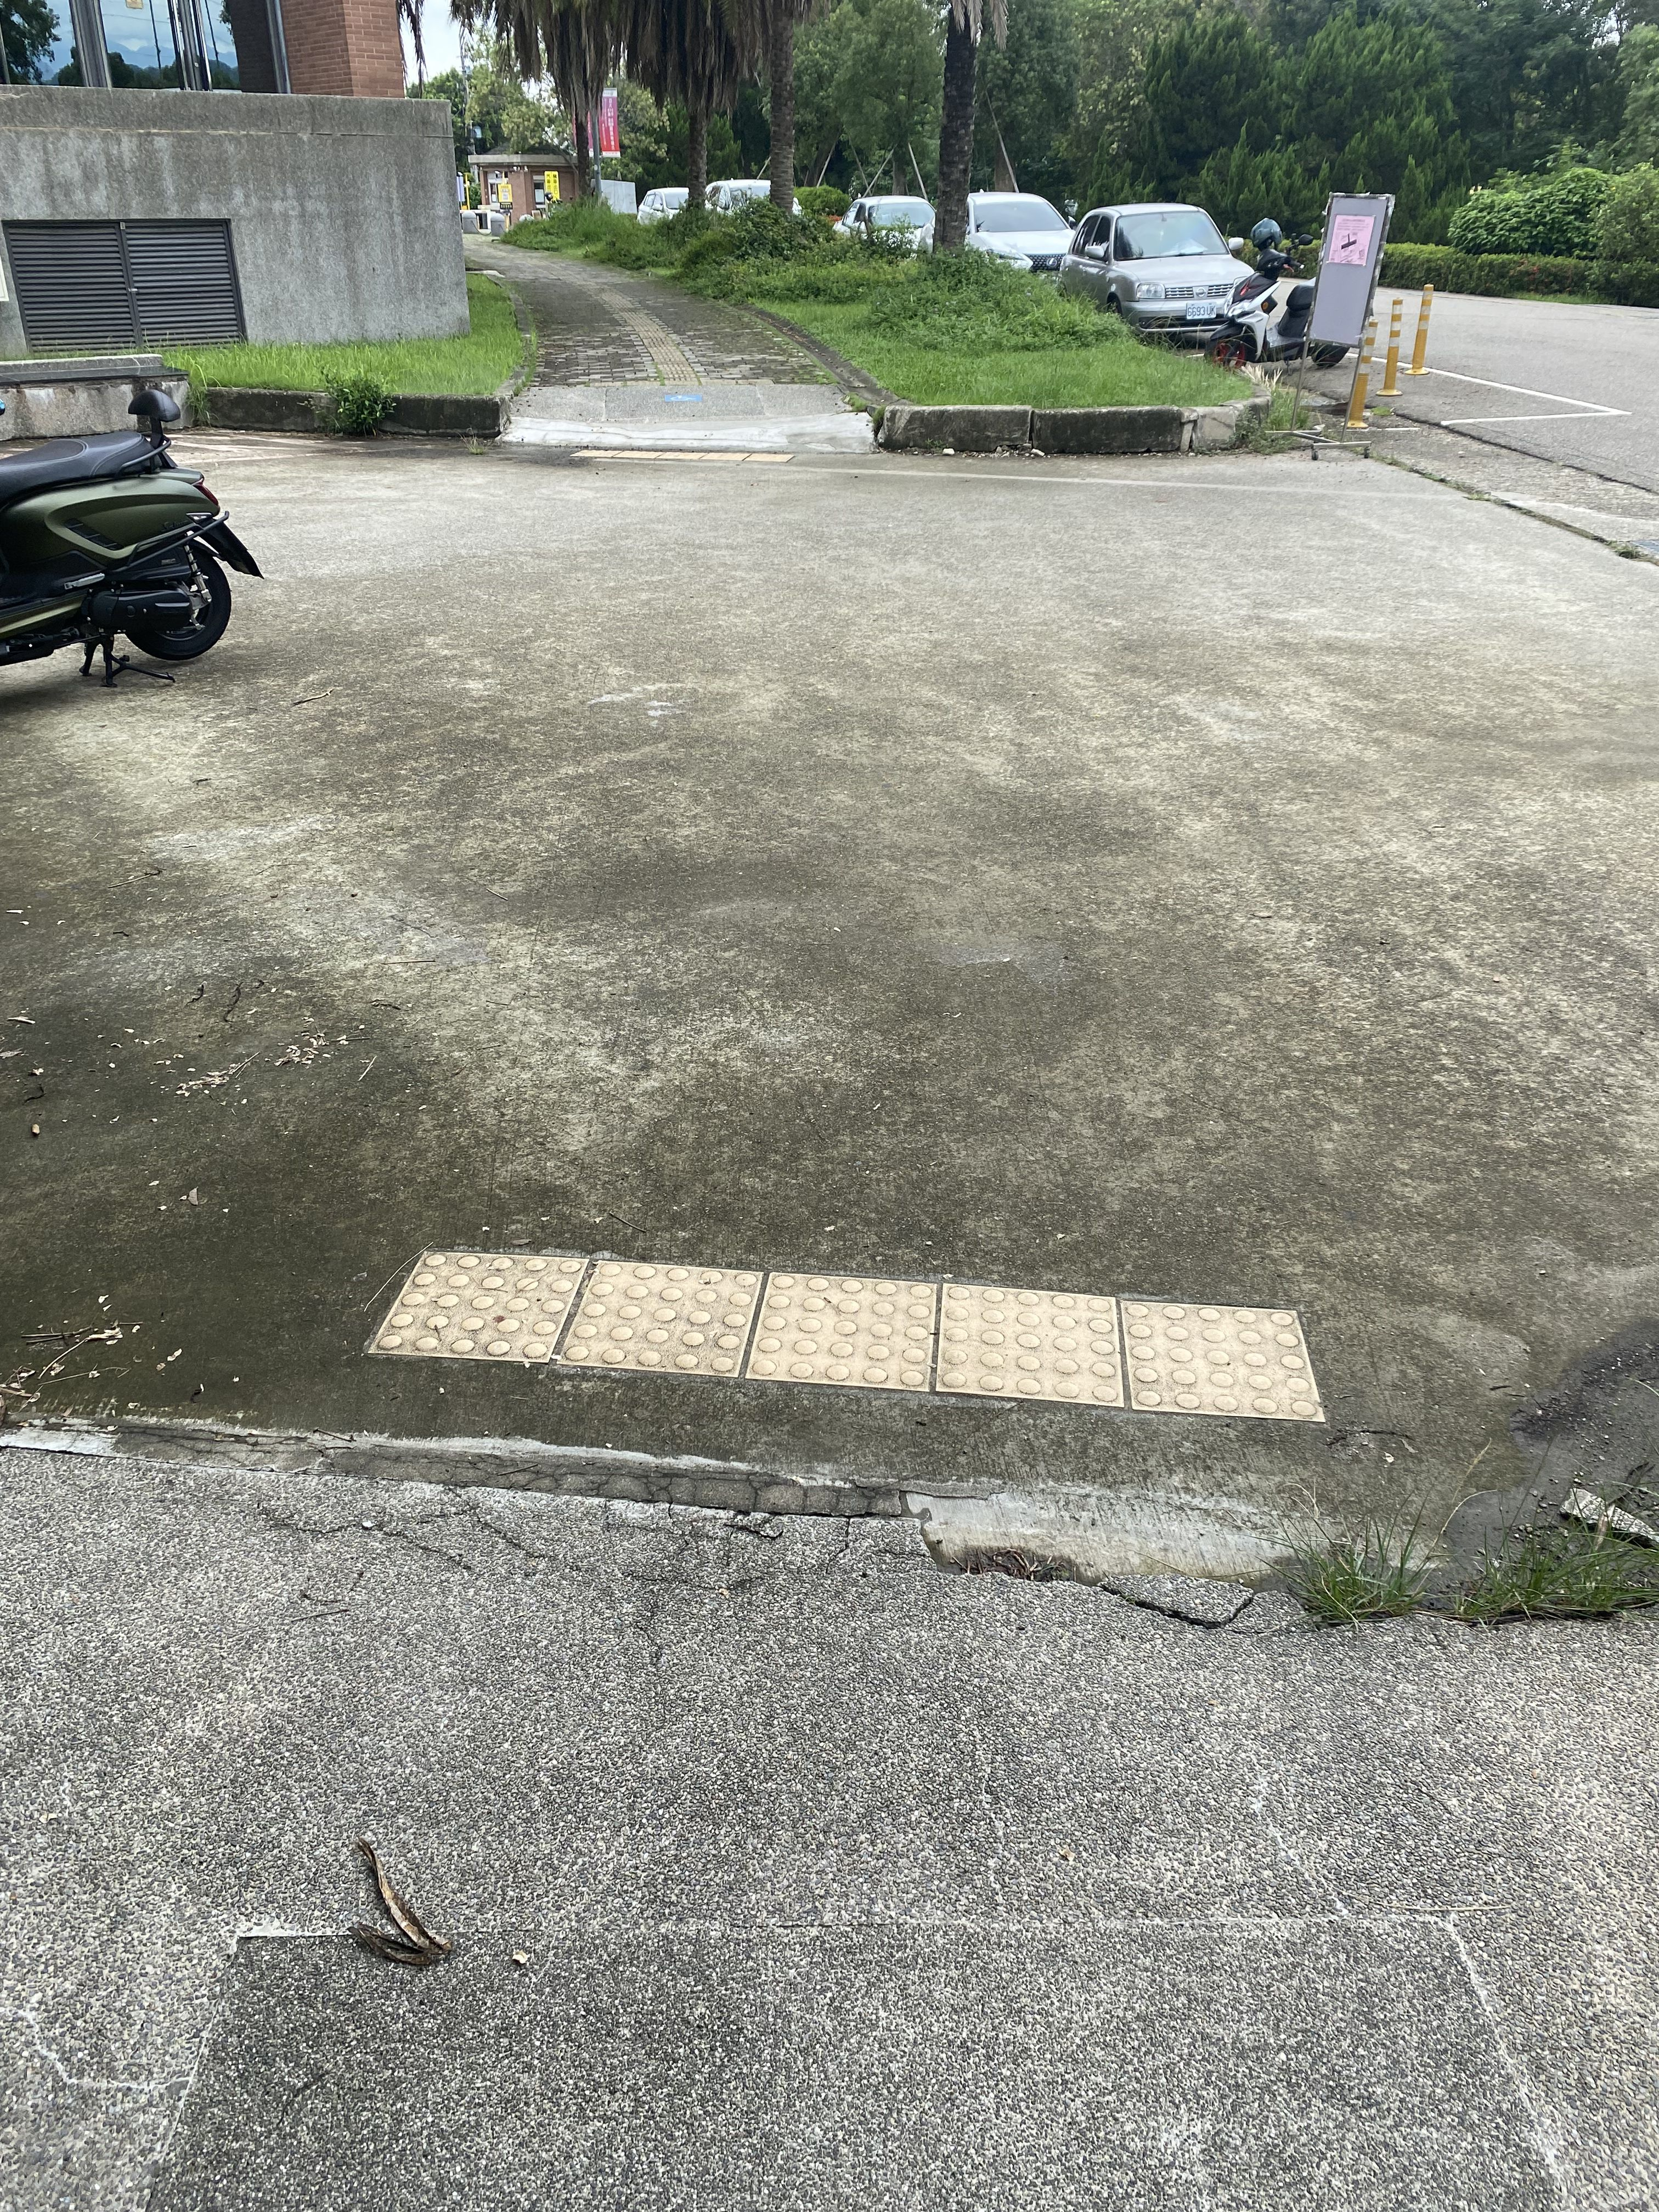0: (444, 225, 918, 481)
sidewalk: (5, 1176, 1659, 2212)
